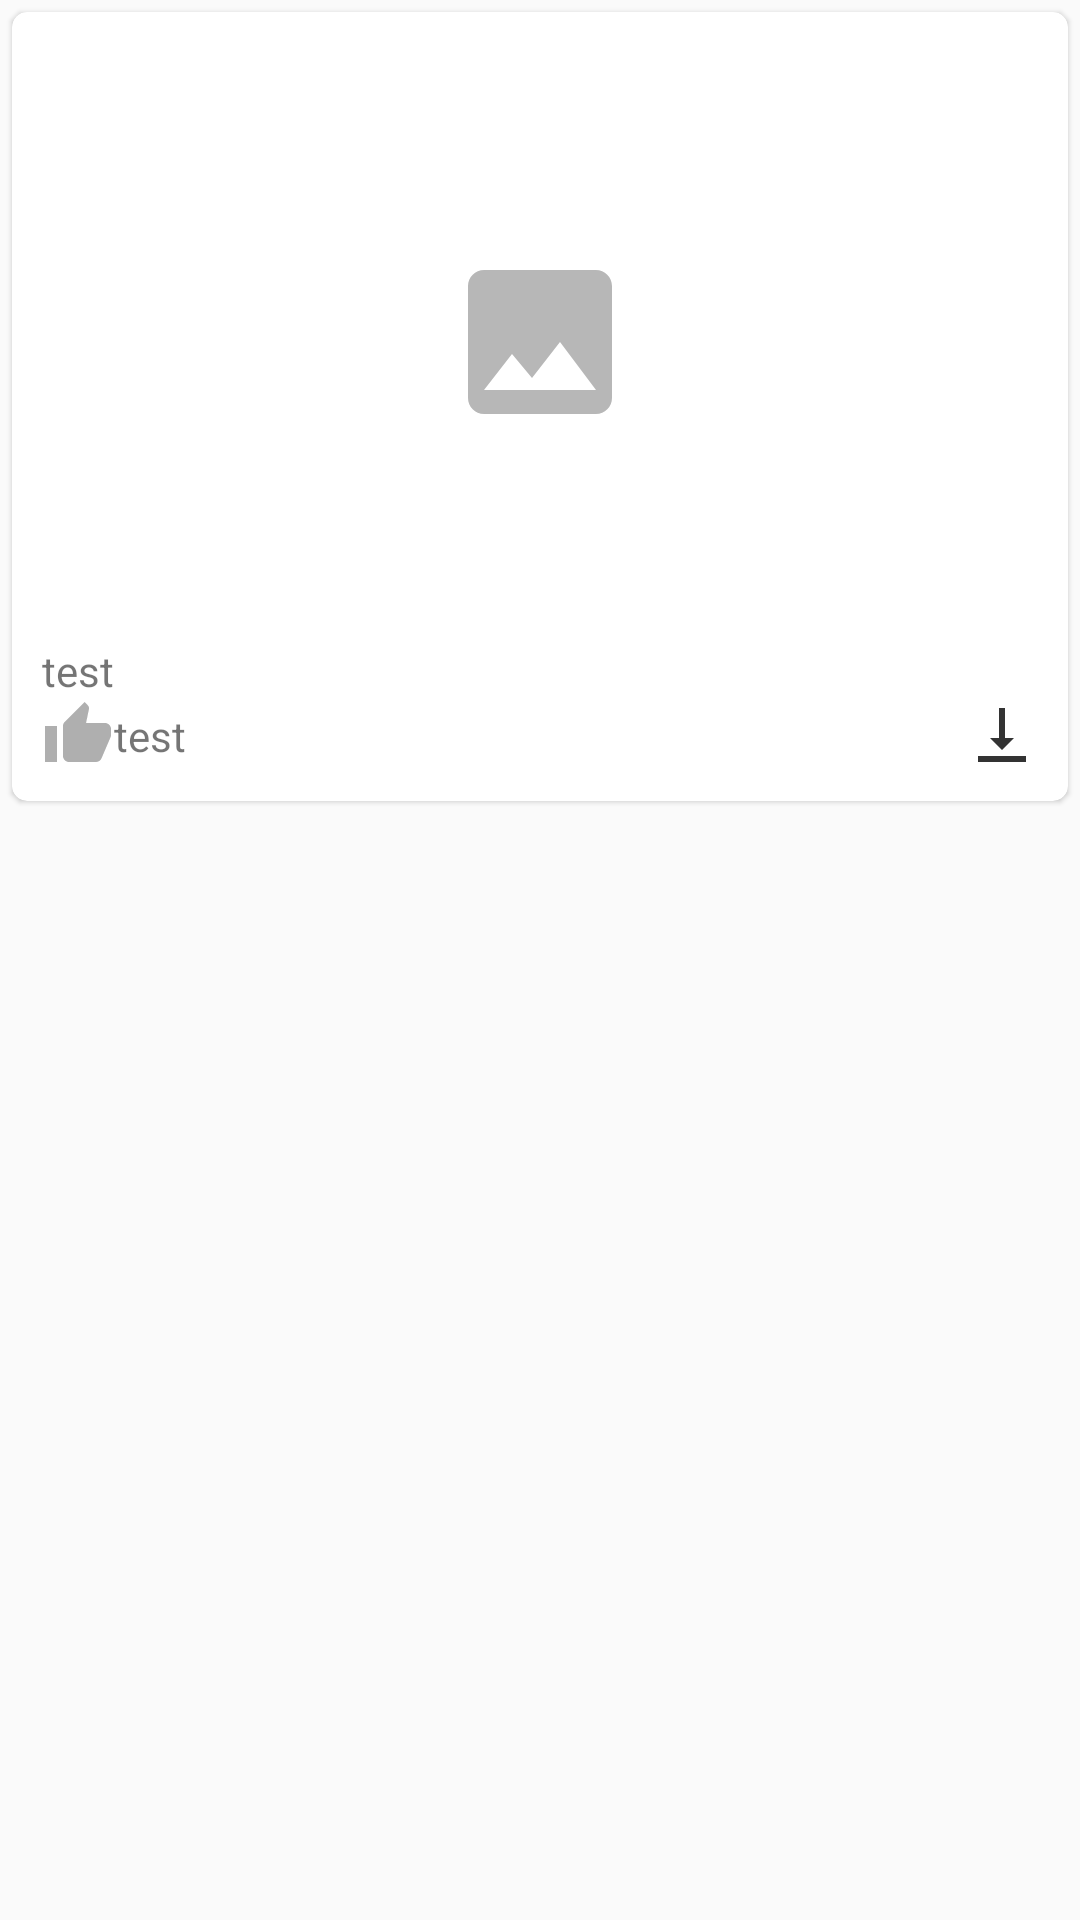

Screen size 1080 × 1920. Icon name, then its box in pixels as (x1=x1, y1=y1, x2=x2, y2=y2):
thumb up: (x1=45, y1=702, x2=111, y2=762)
vertical align bottom: (x1=978, y1=708, x2=1026, y2=762)
